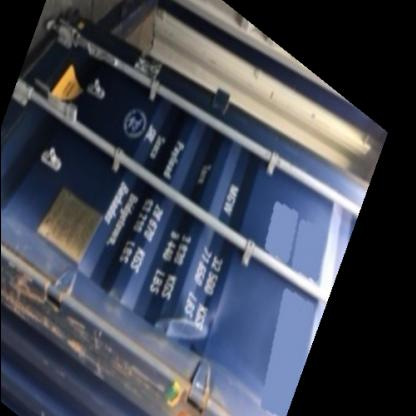Damage: (4, 262, 136, 382), (150, 306, 221, 349)
